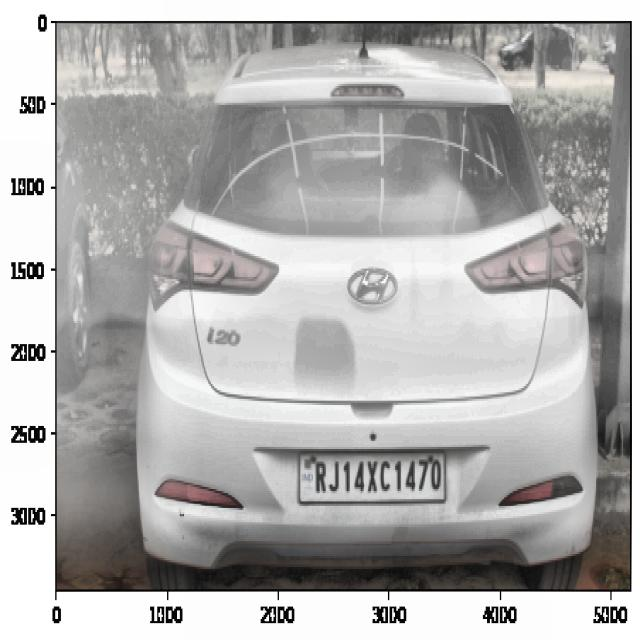license_plate: (305, 448, 448, 504)
